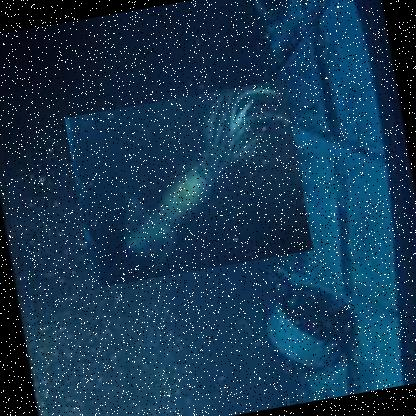colossal_squid: (62, 78, 312, 288)
